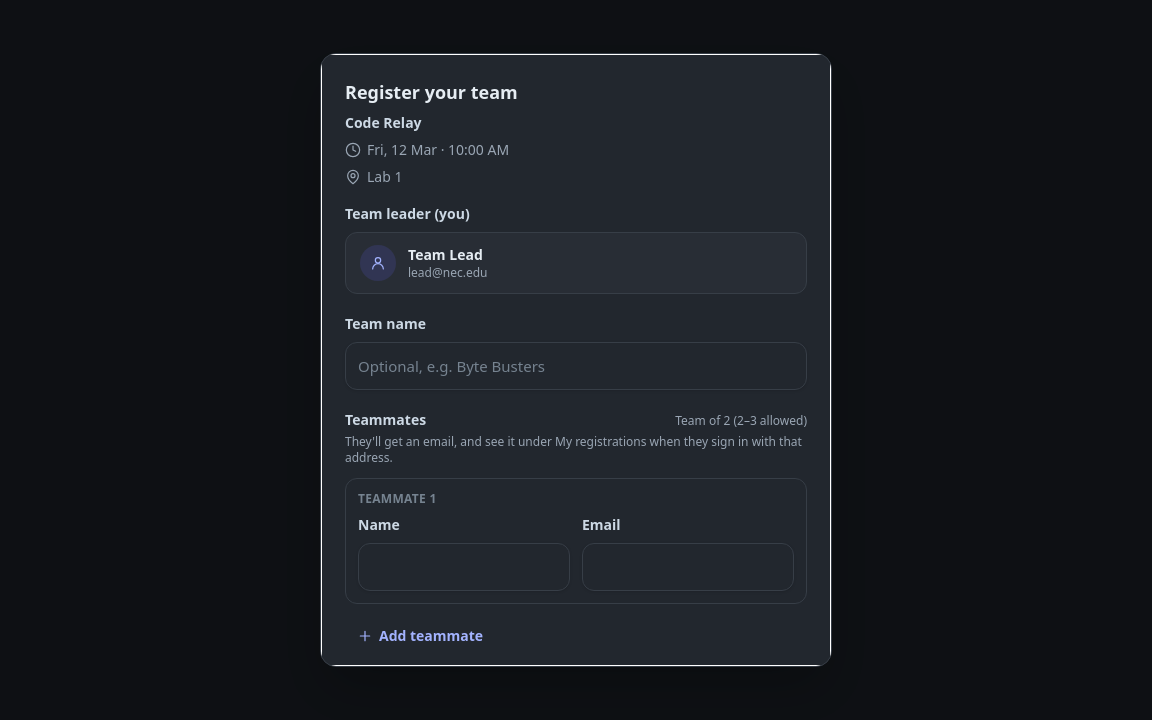
Test: RegisterSheet › starts with the minimum teammates; add and remove stay within the team size
Expected: the text "Team Lead" is shown, [408,245,488,265]
Expected: the text "Teammate 1" is shown once, [358,491,437,507]
Click the button "Add teammate".
click(420, 636)  # box [345,616,495,656]
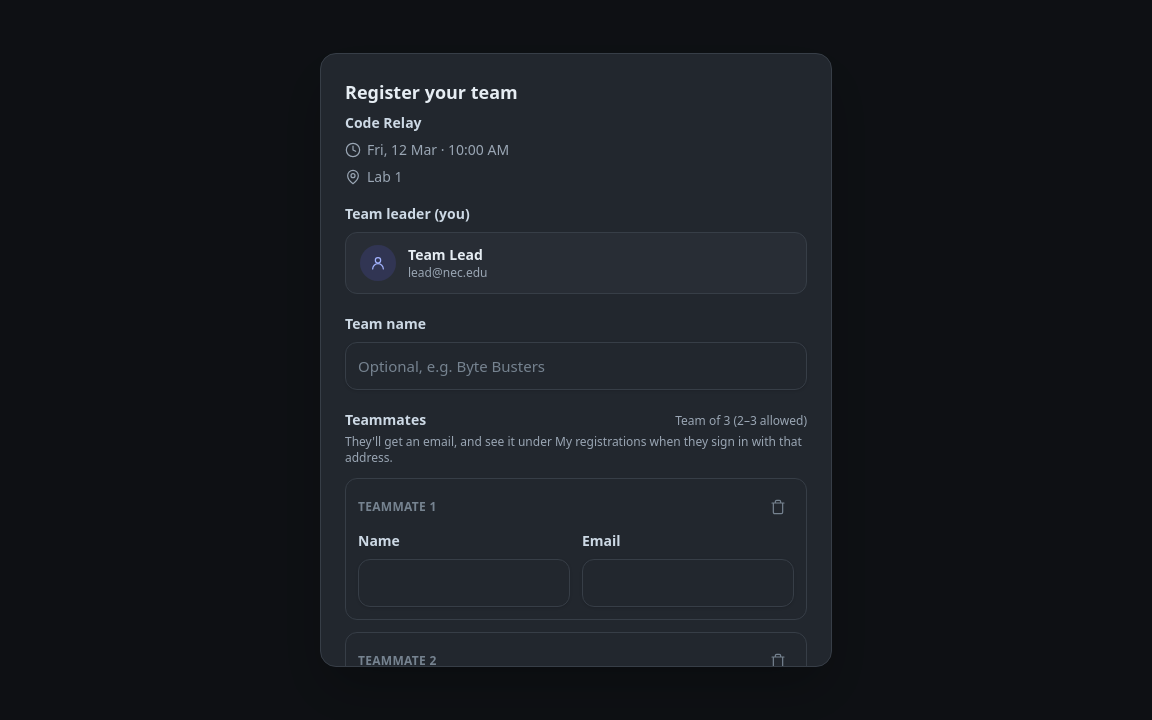
Expected: the text "Teammate 1" is shown 2 times, [358,499,437,515]; [358,653,437,666]
Expected: the button "Add teammate" is gone
Click the button named "Remove teammate 2".
click(778, 661)  # box [762,645,794,677]
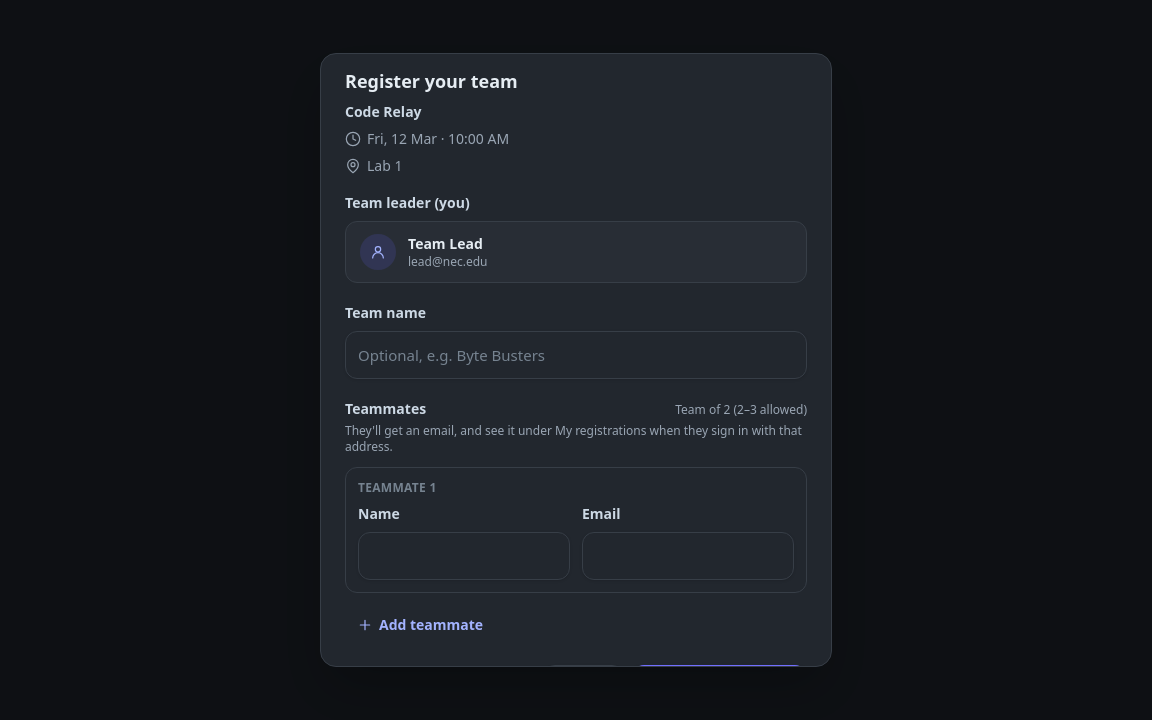
Expected: the text "Teammate 1" is shown once, [358,480,437,496]
